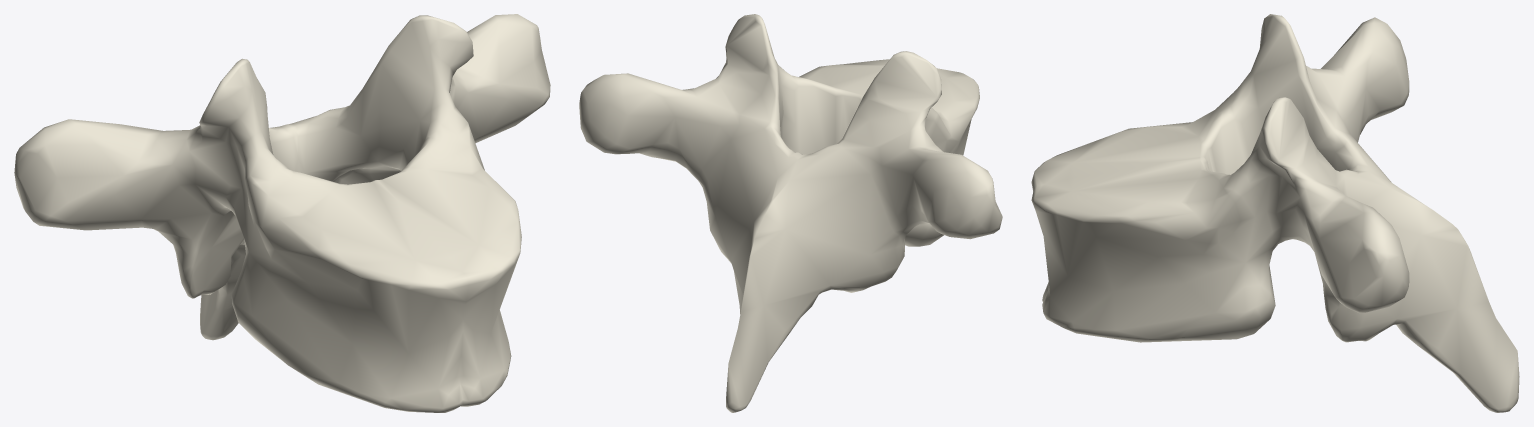
3 views of the same model, side by side, from view 1: azimuth 30°, elevation 25°; view 2: azimuth 150°, elevation 25°; view 3: azimuth 270°, elevation 25° (orthographic). The views are drawn at different scales.
Parts seen in each view (by area): view 1: ZA_235aff25d47f45e6; view 2: ZA_235aff25d47f45e6; view 3: ZA_235aff25d47f45e6.
Part boxes in pixels (left/top/right/bottom): ZA_235aff25d47f45e6: left=14, top=14, right=550, bottom=412; ZA_235aff25d47f45e6: left=579, top=14, right=1002, bottom=412; ZA_235aff25d47f45e6: left=1031, top=14, right=1519, bottom=412.
Bounding box in the file's own units: 0.0754 × 0.0533 × 0.0666.
